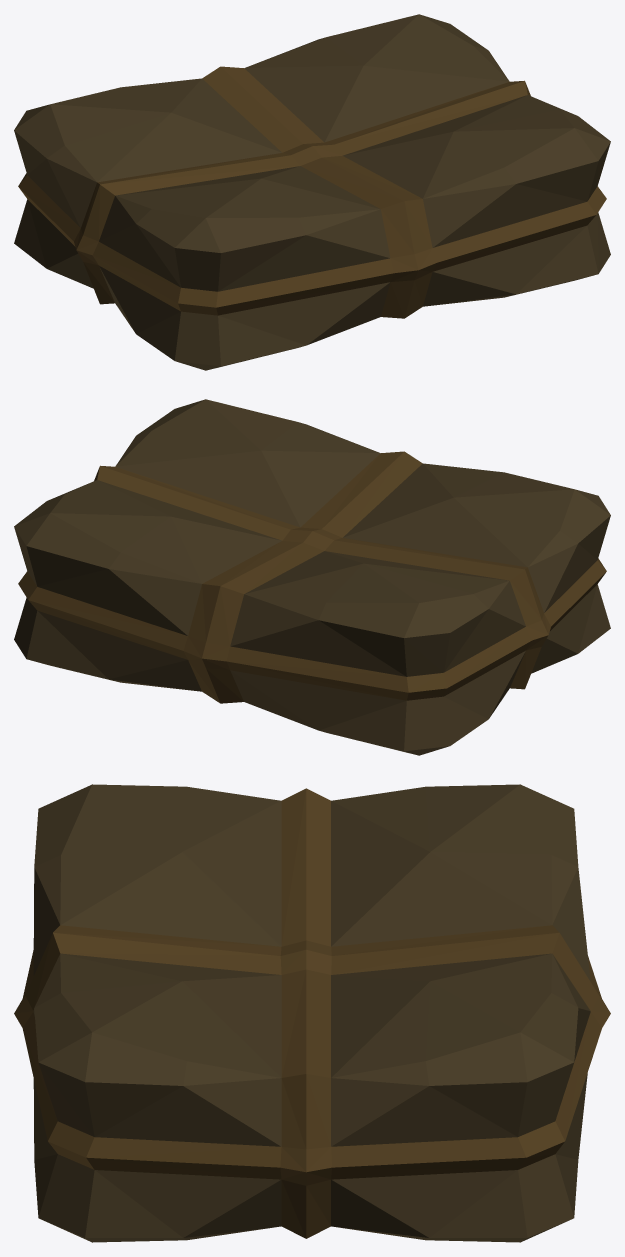
File: ITMI_PACKET.OBJ
The picture shows the model from 3 angles, top to bottom: view 1: azimuth 30°, elevation 25°; view 2: azimuth 150°, elevation 25°; view 3: azimuth 270°, elevation 25°; orthographic projection. The views are drawn at different scales.
Parts seen in each view (by area): view 1: ITMI_PACKET; view 2: ITMI_PACKET; view 3: ITMI_PACKET.
Part boxes in pixels (x1=…): ITMI_PACKET: x1=14, y1=14, x2=610, y2=370; ITMI_PACKET: x1=14, y1=399, x2=610, y2=755; ITMI_PACKET: x1=14, y1=784, x2=610, y2=1242.
Size of the model in its own units: 0.4578 by 0.1414 by 0.364.
